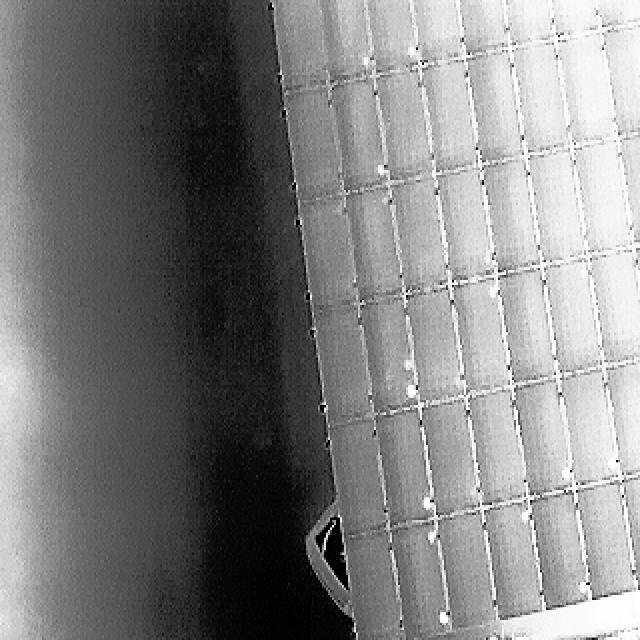Hotspots: (570, 578, 596, 603), (416, 489, 436, 519), (402, 375, 422, 403), (430, 606, 450, 632), (371, 154, 389, 182), (559, 459, 576, 487), (605, 447, 622, 475)
PV-modules: (433, 508, 506, 636), (386, 515, 456, 640), (464, 384, 533, 509), (312, 302, 380, 426), (479, 499, 547, 622), (354, 292, 420, 418), (527, 489, 594, 613), (389, 173, 456, 296), (450, 277, 517, 400), (418, 395, 484, 519), (327, 418, 394, 540), (414, 57, 482, 177), (373, 68, 441, 188), (572, 480, 637, 605), (556, 367, 622, 490), (404, 287, 470, 409), (512, 376, 578, 498), (568, 139, 635, 259), (462, 44, 530, 162), (374, 408, 439, 531), (494, 266, 559, 389), (432, 165, 498, 286), (342, 182, 408, 303), (542, 257, 606, 381), (478, 156, 544, 276), (526, 148, 592, 268), (510, 38, 577, 156), (328, 77, 394, 196), (553, 31, 620, 148), (282, 84, 347, 202), (296, 193, 362, 309), (342, 525, 408, 640), (586, 245, 640, 367), (268, 0, 338, 90), (322, 0, 381, 84), (363, 0, 422, 78), (602, 360, 640, 480), (602, 22, 640, 138), (409, 0, 469, 68), (458, 0, 512, 59), (616, 473, 640, 595), (616, 130, 640, 250), (501, 0, 556, 47), (550, 0, 601, 40), (628, 238, 640, 358), (594, 0, 640, 28)
